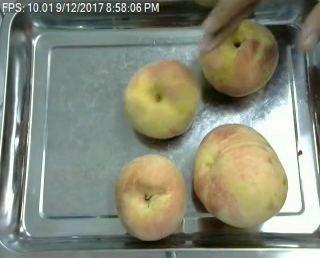Peach: (192, 124, 289, 228), (114, 153, 187, 242), (200, 16, 279, 98), (123, 59, 200, 140)
